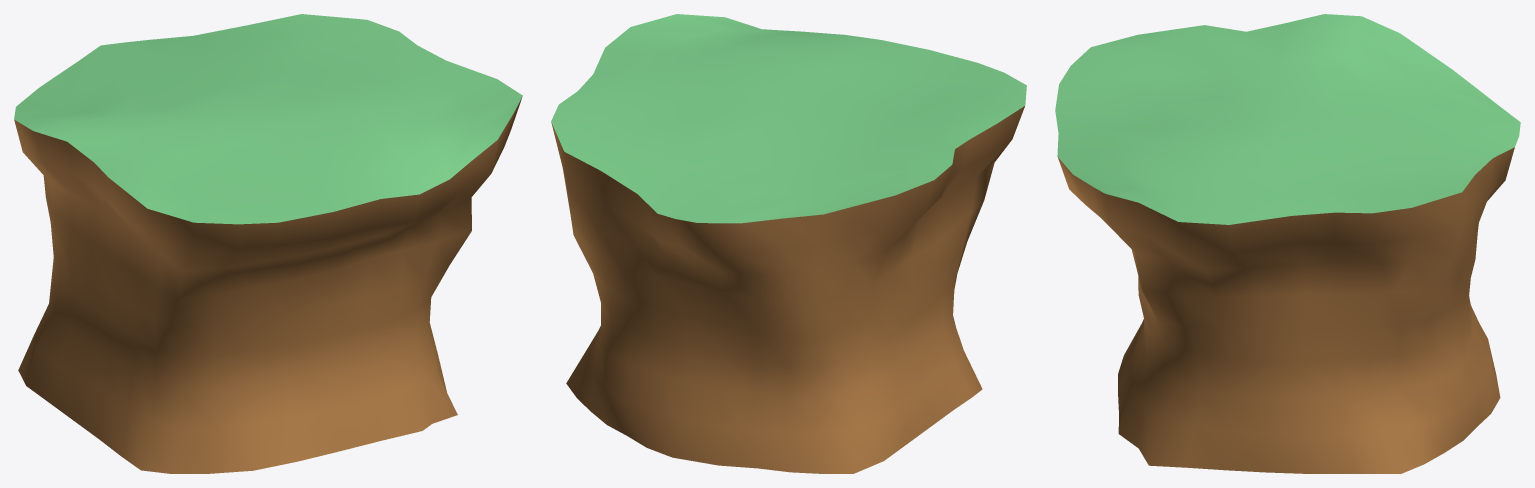
Rendered from TallTerrainPiece.fbx.
The picture shows the model from 3 angles, left to right: view 1: azimuth 30°, elevation 25°; view 2: azimuth 150°, elevation 25°; view 3: azimuth 270°, elevation 25°; orthographic projection. The views are drawn at different scales.
Parts seen in each view (by area): view 1: TallTerrainPiece; view 2: TallTerrainPiece; view 3: TallTerrainPiece.
Part boxes in pixels (x1,y1,x2,y2): TallTerrainPiece: [14, 14, 522, 473]; TallTerrainPiece: [551, 14, 1026, 473]; TallTerrainPiece: [1055, 14, 1520, 473].
Bounding box in the file's own units: 27004 × 18695 × 26869.
